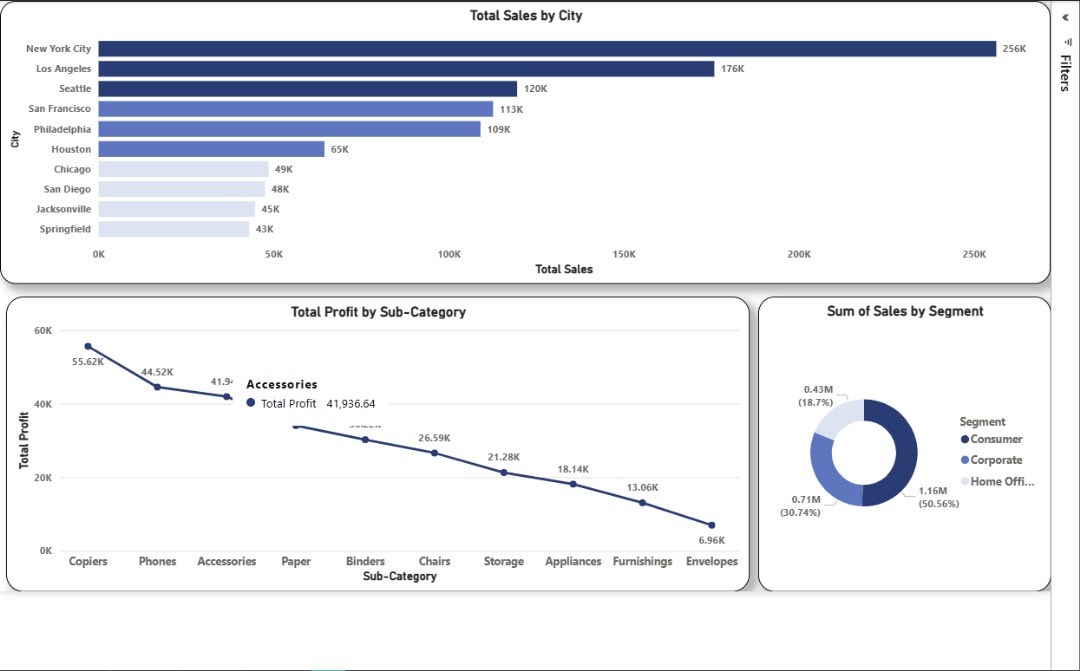

Layout of this report page (visuals, bound fields, positions):
{"tool":"powerbi","page":{"name":"Page 2","canvas":[1280,720],"ordinal":1},"visuals":[{"type":"lineChart","title":"Total Profit by Sub-Category","fields":{"Category":["Orders.Sub-Category"],"Y":["Cal_Measure.Total Profit"]},"box":[7.9,360,905.6,360],"z":0},{"type":"barChart","title":"Total Sales by City","fields":{"Category":["Orders.City"],"Y":["Cal_Measure.Total Sales"]},"box":[0,0,1280.2,345.4],"z":1000},{"type":"donutChart","fields":{"Y":["Sum(Orders.Sales)"],"Category":["Orders.Segment"]},"box":[923.6,360,356.6,360],"z":2000}]}

Visuals, with their boxes on the page's 1280x720 design canvas (x1, y1, x2, y2). These are canvas units, not pixel positions in the 1080x671 screenshot, which may show the page scaled, cropped or inside an application window:
"Total Profit by Sub-Category" lineChart: box=[8, 360, 914, 720]
"Total Sales by City" barChart: box=[0, 0, 1280, 345]
donutChart - Sum(Orders.Sales) x Orders.Segment: box=[924, 360, 1280, 720]
